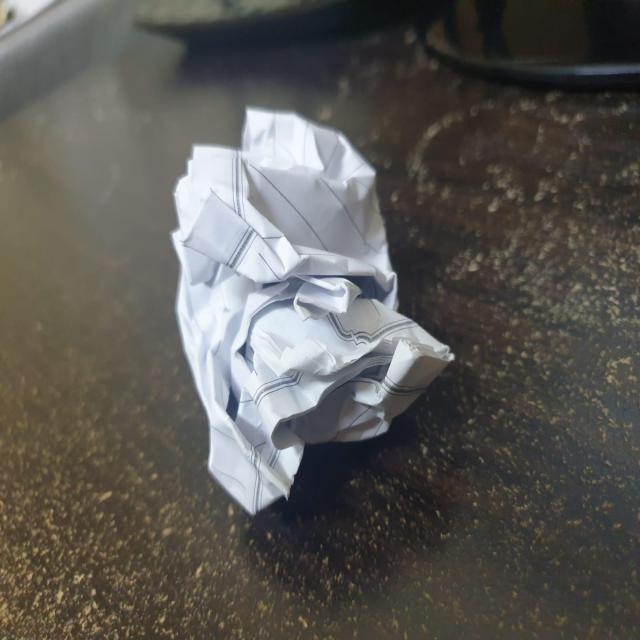cardboard paper: (172, 106, 451, 511)
